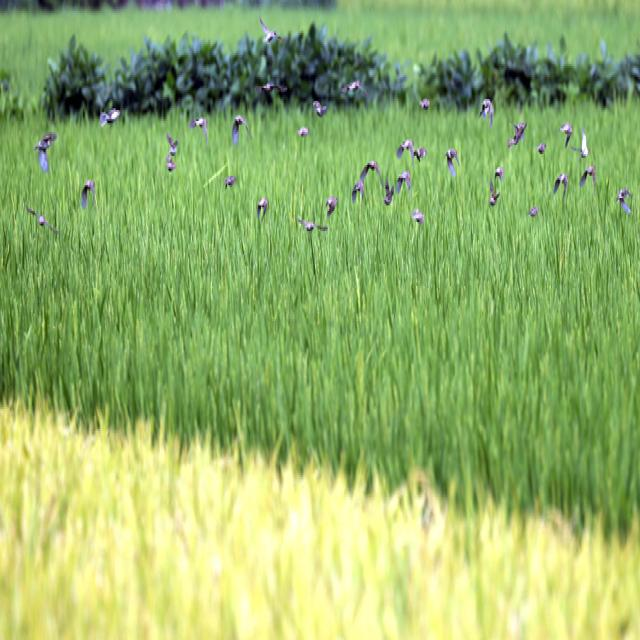bird: (22, 206, 62, 242), (32, 129, 58, 174), (357, 154, 384, 190), (229, 112, 253, 150), (339, 80, 374, 106), (258, 14, 286, 46), (95, 103, 125, 132), (578, 164, 602, 200), (550, 171, 572, 206), (77, 176, 97, 214), (292, 216, 331, 235), (394, 135, 414, 169), (188, 116, 210, 146), (614, 185, 632, 216), (394, 173, 413, 200), (446, 147, 460, 182), (478, 98, 496, 125), (348, 177, 364, 206), (164, 133, 180, 155), (325, 195, 339, 219), (257, 193, 267, 220), (165, 154, 178, 173)
